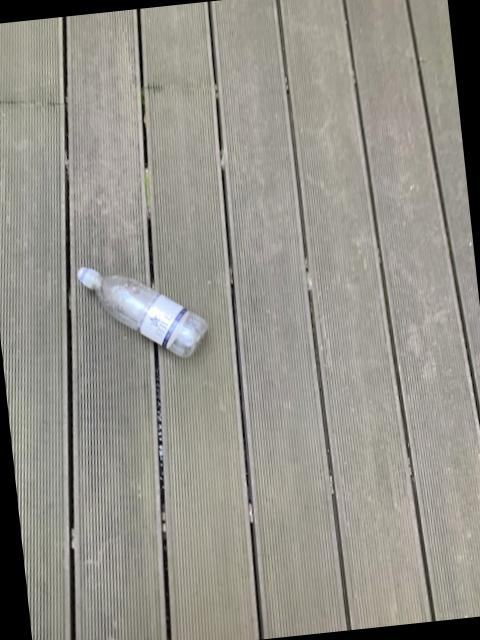plastic: (77, 266, 205, 356)
